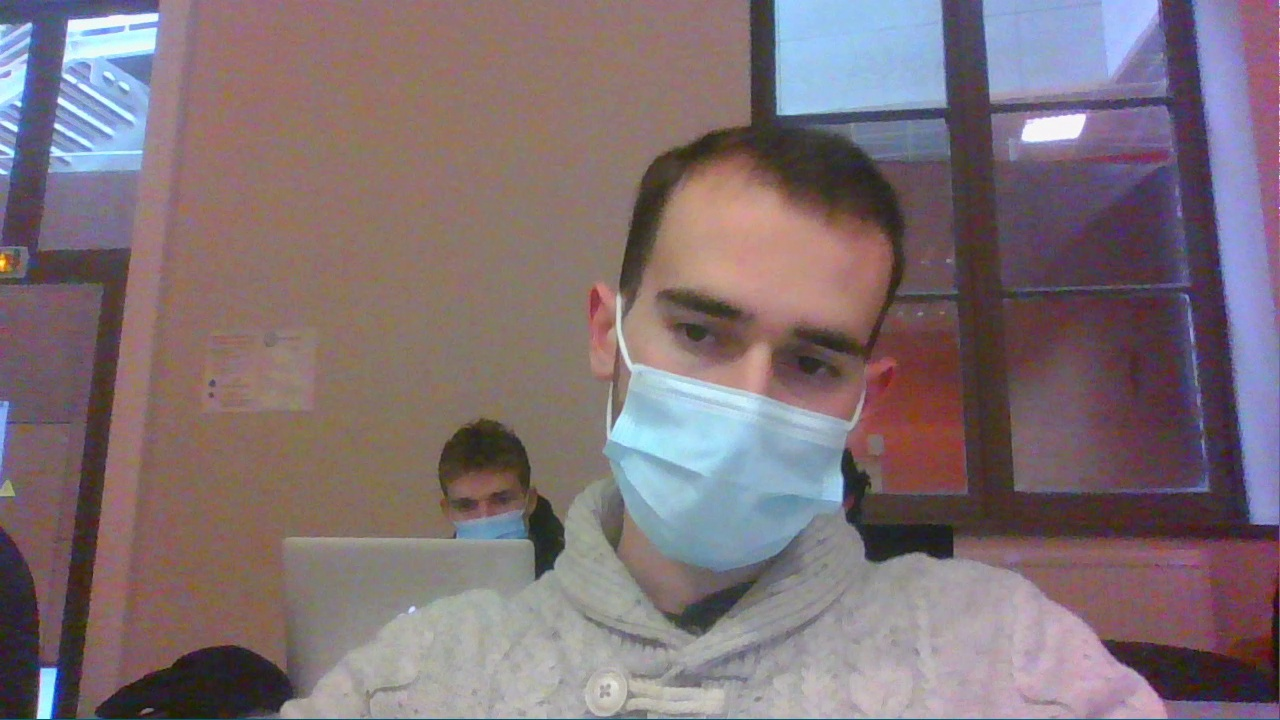mask: (587, 120, 905, 587), (433, 419, 537, 542)
